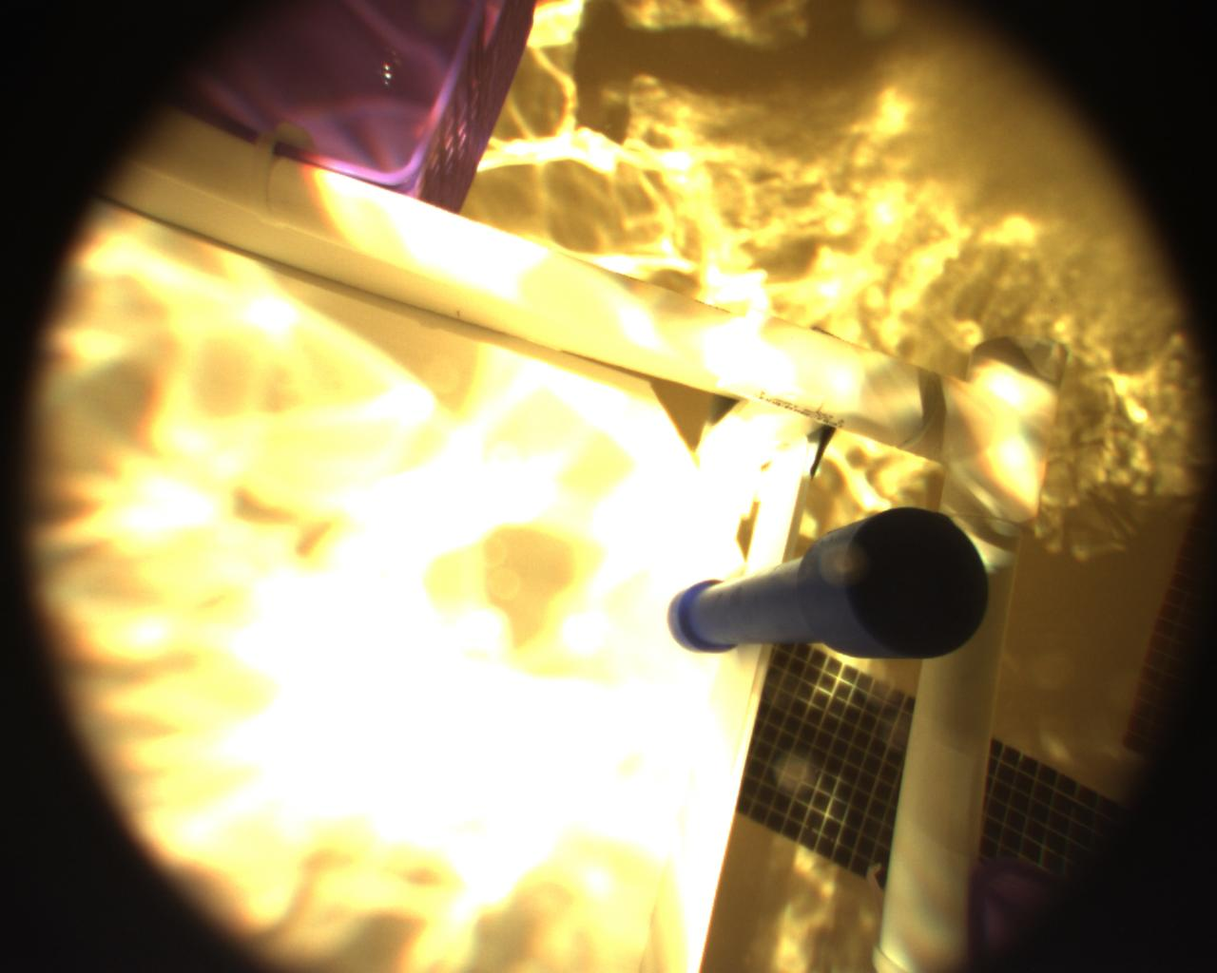coral: (673, 487, 1002, 699)
coral-box-top: (0, 201, 1052, 973)
